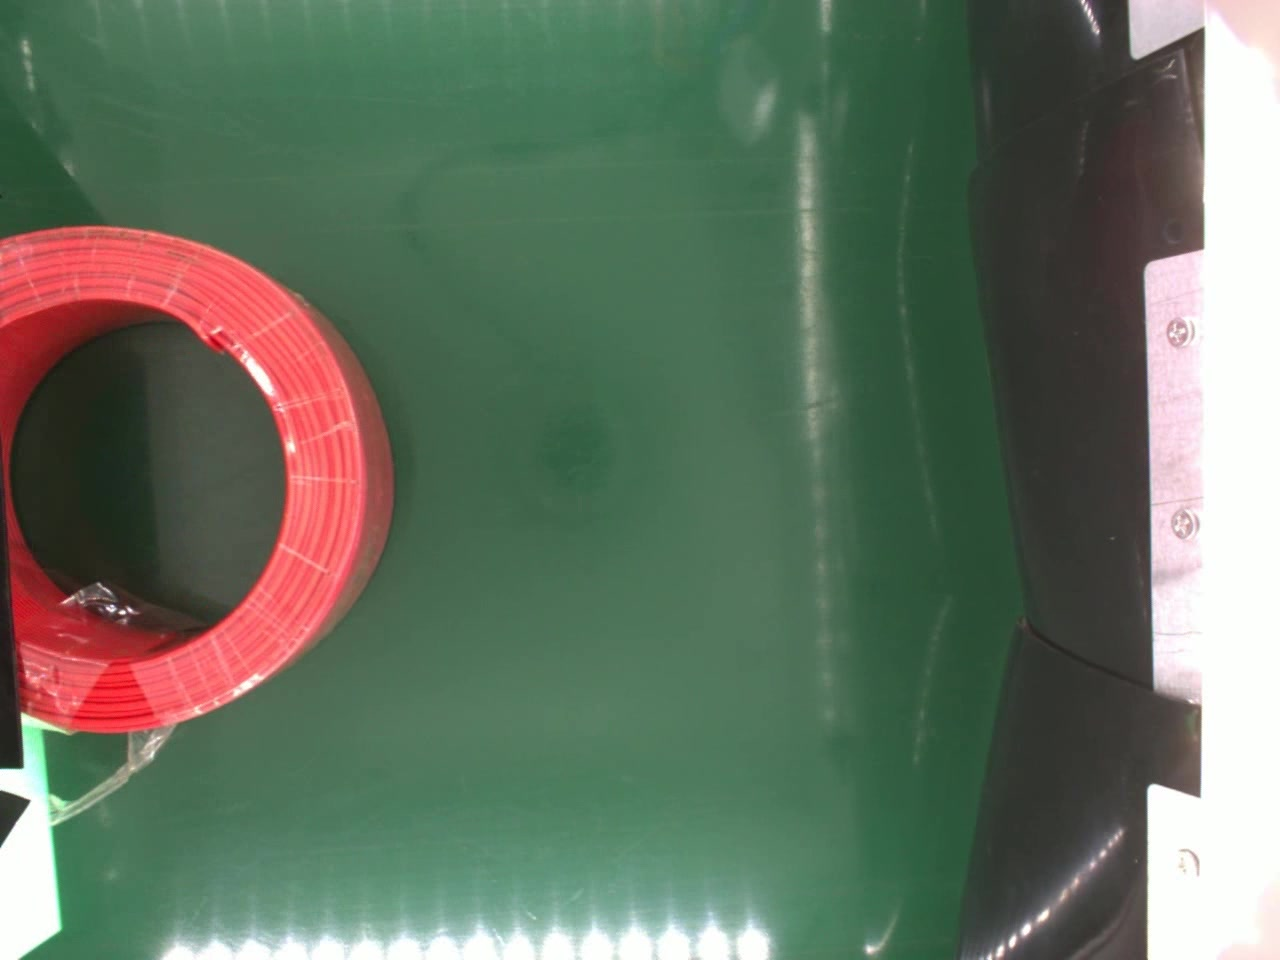red: (0, 224, 394, 737)
